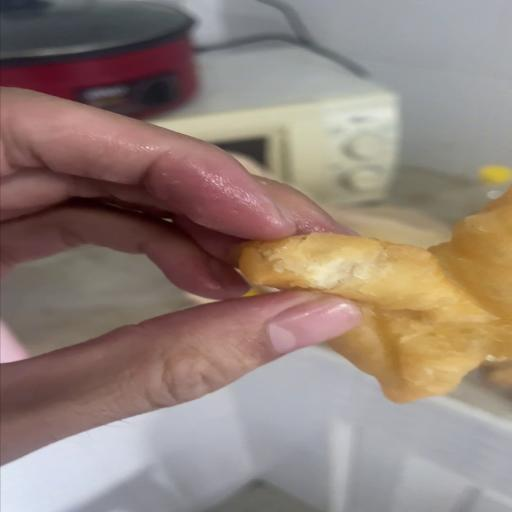street_golden_defect: (238, 190, 512, 402)
